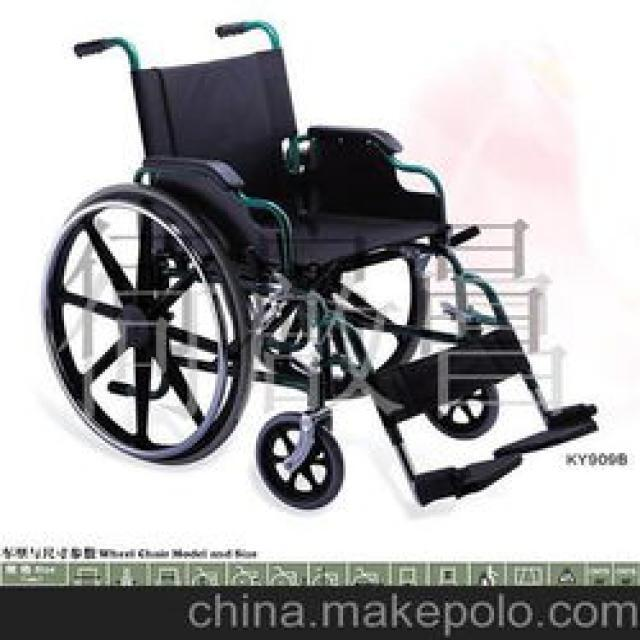wheelchairs: (34, 22, 602, 508)
